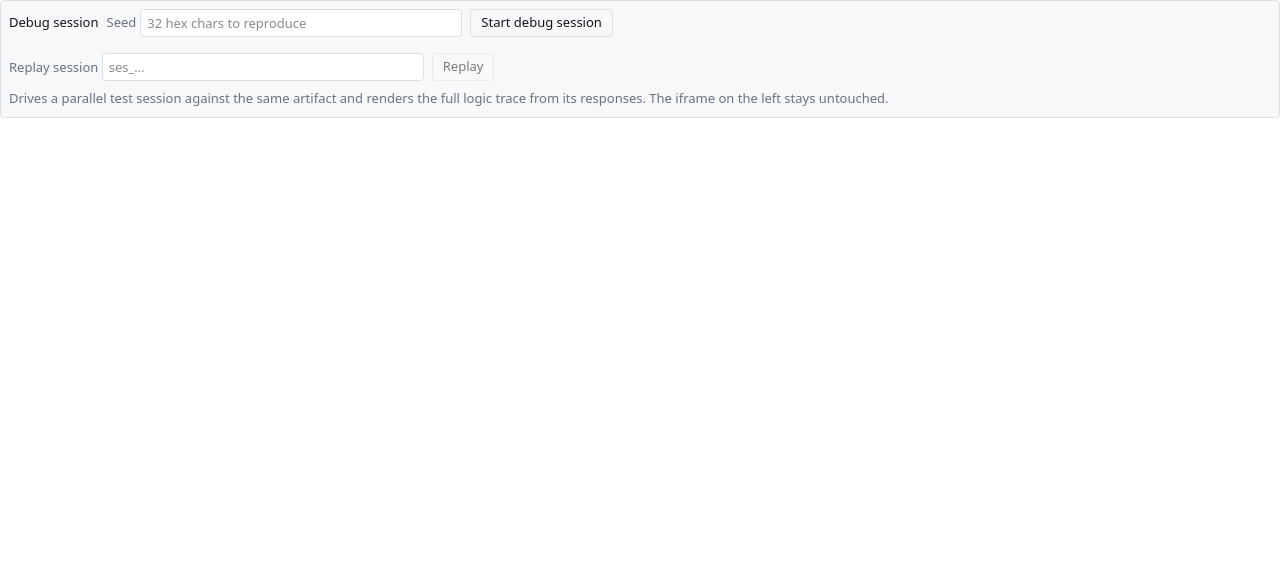
DebugPanel › renders seed, per-cell verdicts with collapse annotations, and randomization orders
Step 1. Click the button "Start debug session" → (542, 23), box left=470, top=9, right=613, bottom=37
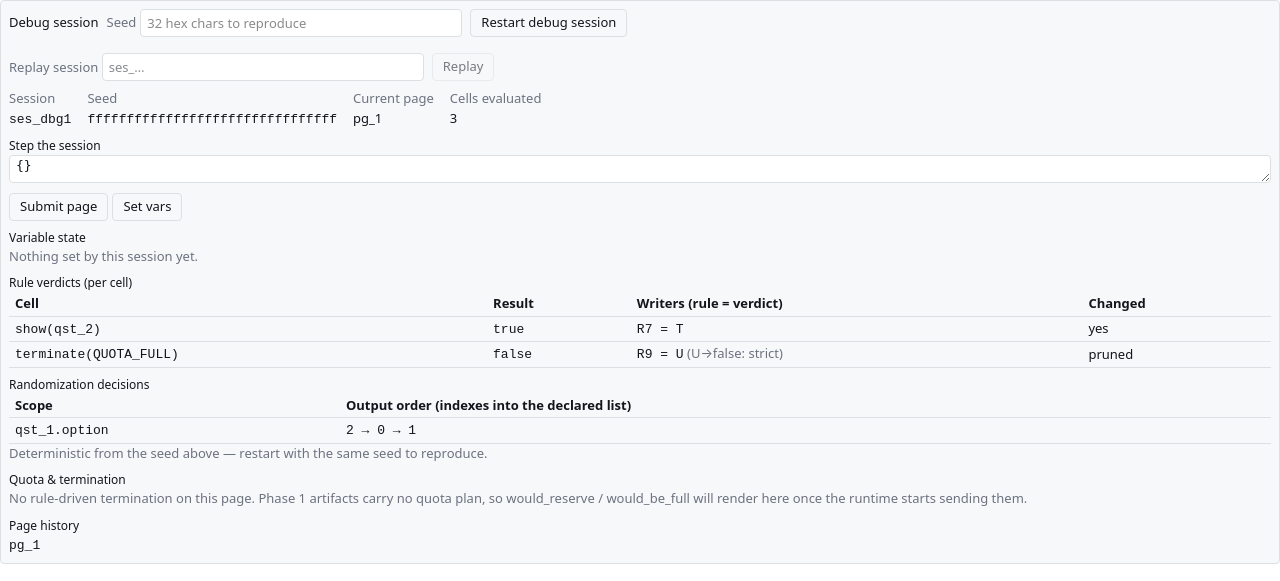
Now the text with test id "debug-current-page" reads "pg_1", box left=353, top=108, right=382, bottom=126
Now the table with test id "debug-trace" shows "show(qst_2)", box left=15, top=322, right=101, bottom=336
Now the table with test id "debug-trace" shows "R7 = T", box left=9, top=292, right=1271, bottom=368
